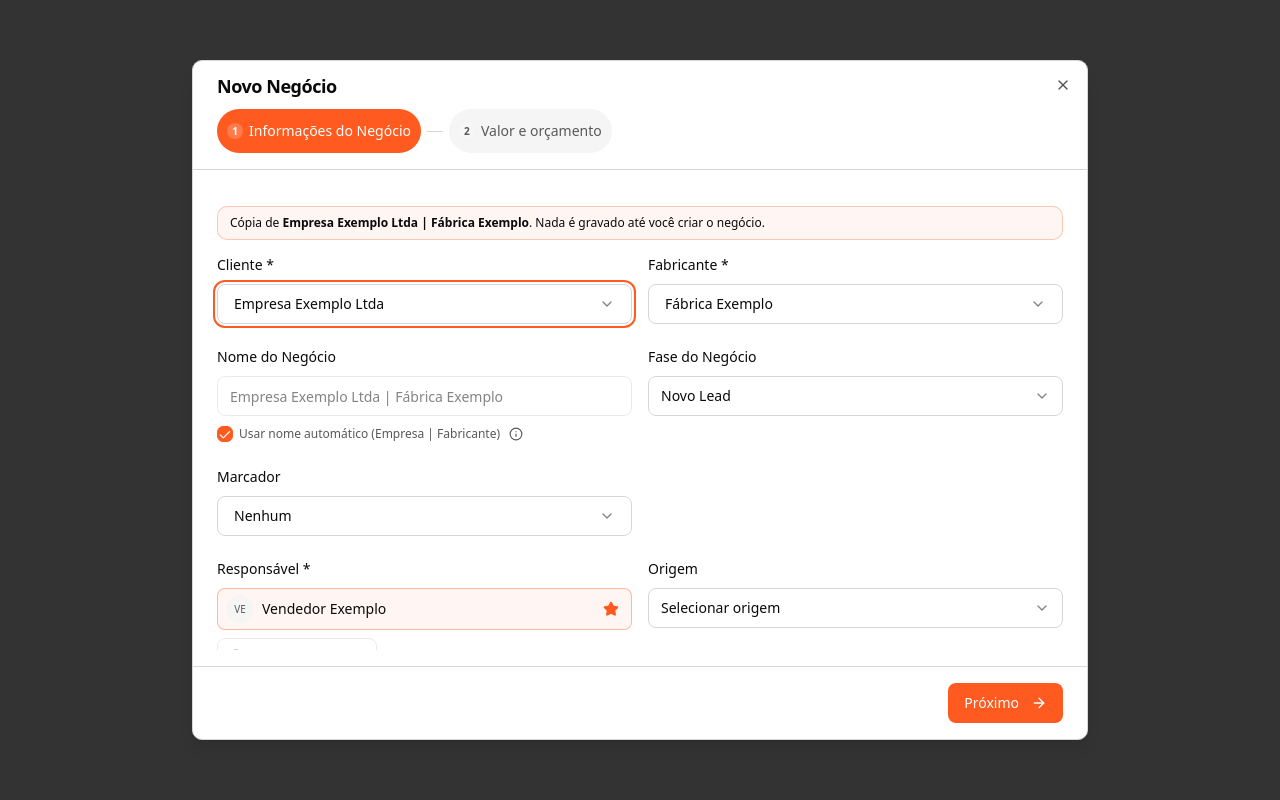
Test: NovoNegocioDialog — nasce preenchido por uma cópia › a lixeira de um anexo herdado só tira ELE da tela — o outro fica, e nada muda no banco
The image size is (1280, 800).
Click the button "Próximo". click: coordinates (1006, 703)
box: [948,683,1063,723]
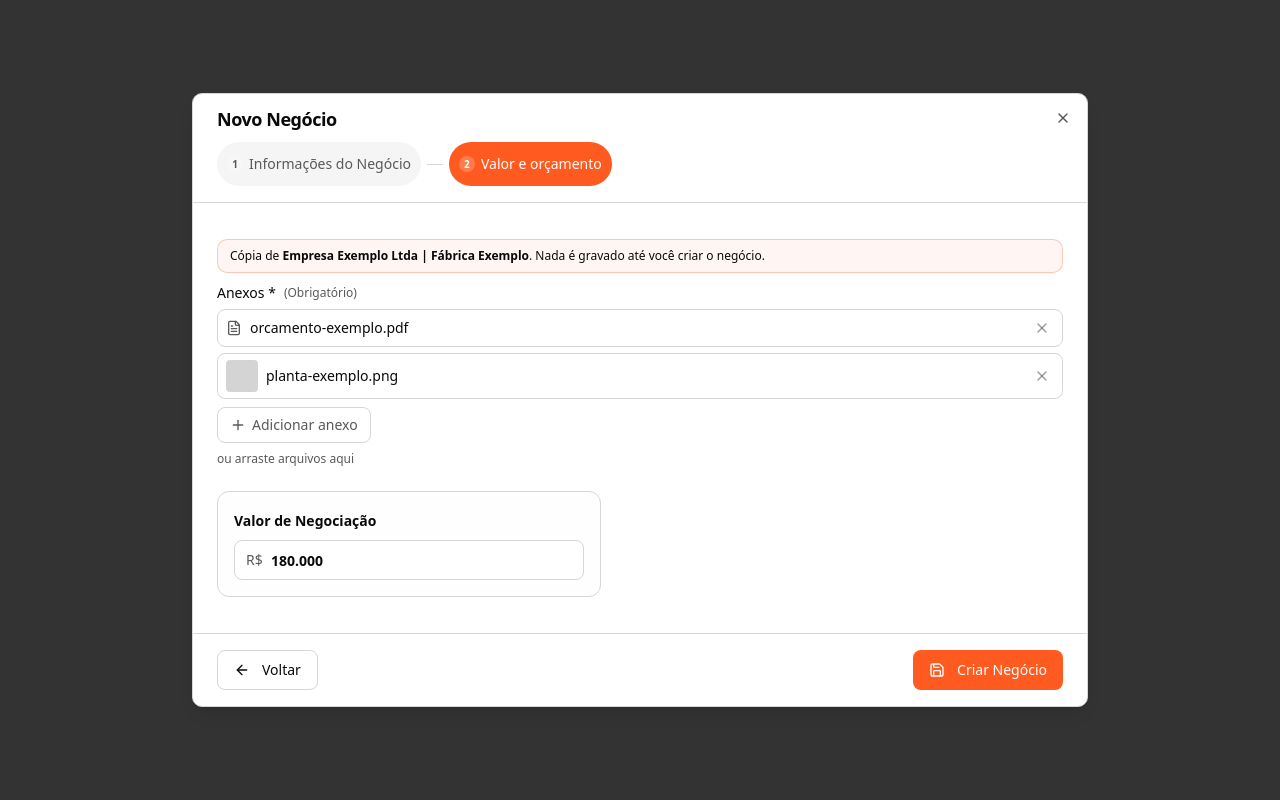
Click the button named "Remover orcamento-exemplo.pdf". click: coordinates (1042, 328)
box: [1030,316,1054,340]
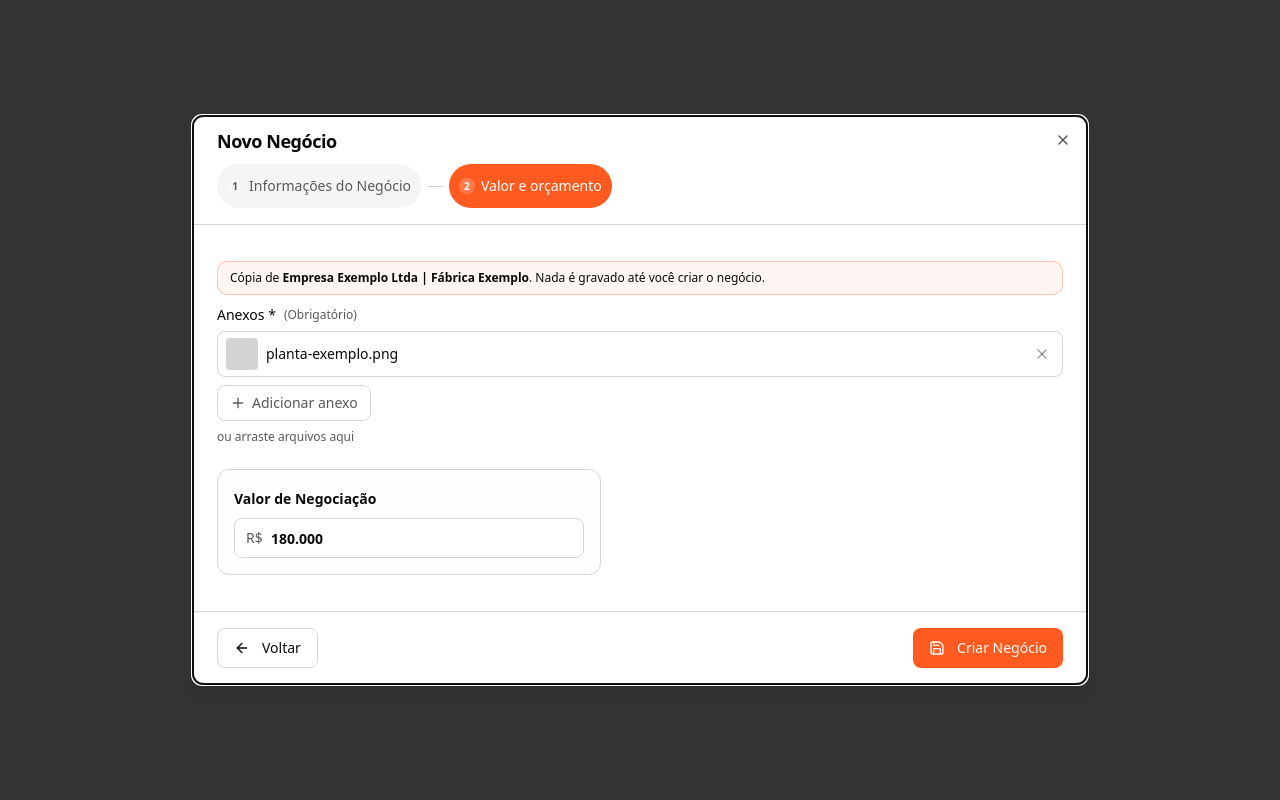
Expected: the text "planta-exemplo.png" is shown, [266,344,398,363]
Expected: the link "orcamento-exemplo.pdf" is gone
Expected: the number of list items with test id "anexo-linha" is 1, [217,331,1063,377]
